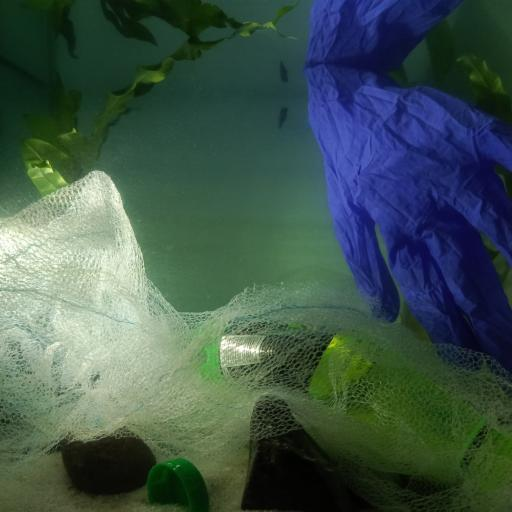bottle_cap: (144, 456, 207, 512)
glove: (309, 0, 512, 363)
net: (0, 168, 512, 494)
plastic_bottle: (203, 321, 512, 490)
